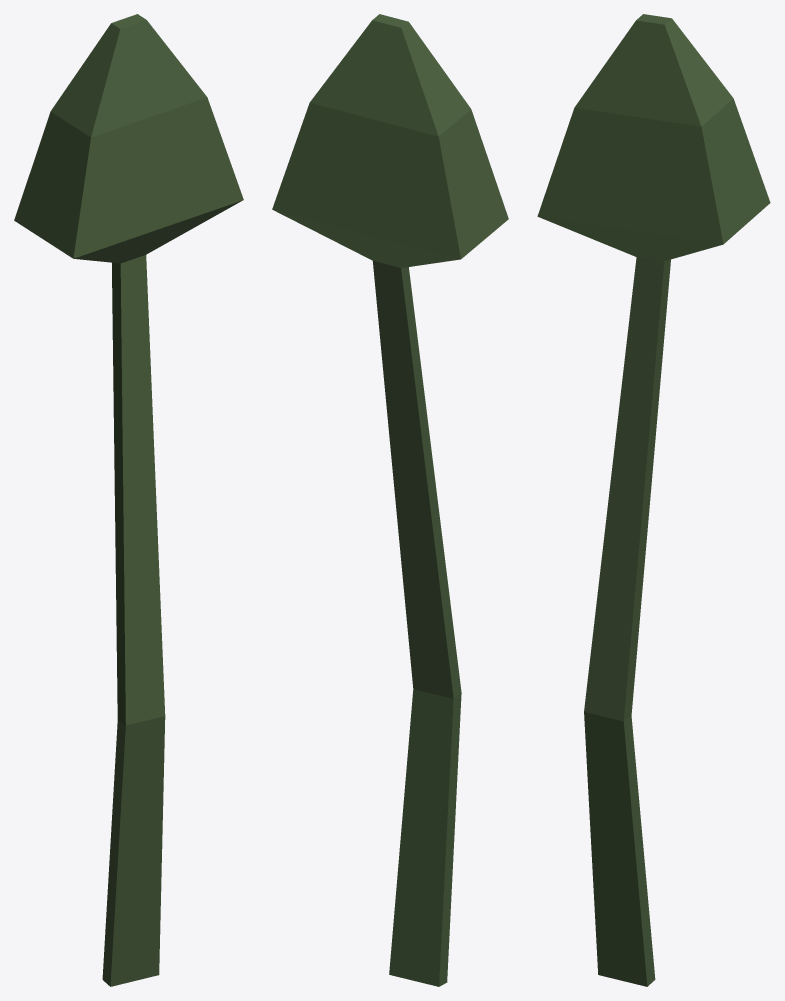
The model's file is flower-2-7dedfc69a4.glb.
3 renders of one model, left to right at view 1: azimuth 30°, elevation 25°; view 2: azimuth 150°, elevation 25°; view 3: azimuth 330°, elevation 25°, orthographic. The views are drawn at different scales.
Parts seen in each view (by area): view 1: Flower_2.obj; view 2: Flower_2.obj; view 3: Flower_2.obj.
Boxes of the visible parts, x1,y1,x2,y2 form: Flower_2.obj: (14,14,243,986); Flower_2.obj: (272,14,508,986); Flower_2.obj: (537,14,770,986).
Size of the model in its own units: 0.0839 by 0.4117 by 0.0499.
